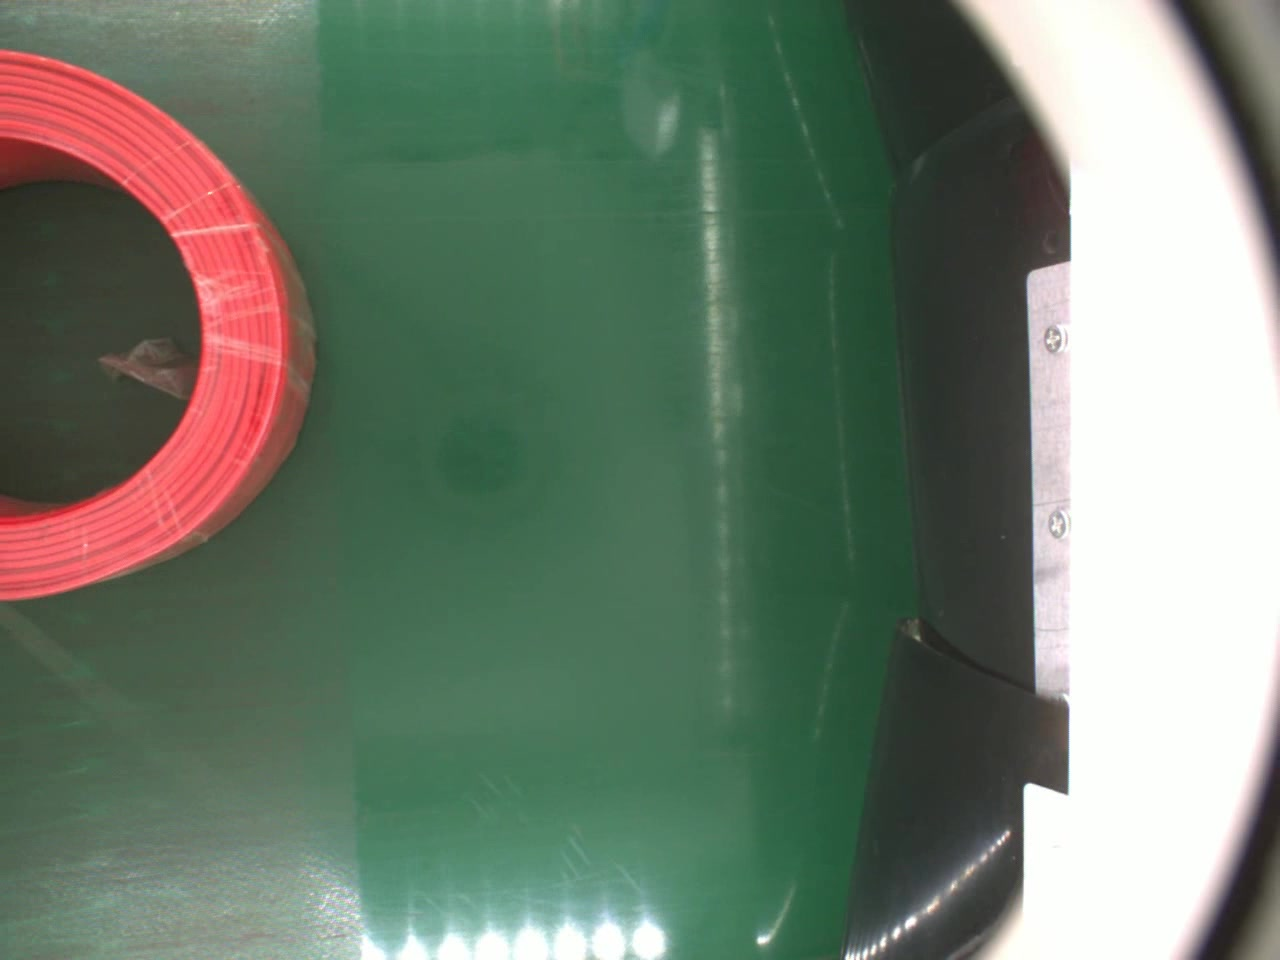red: (0, 47, 323, 601)
